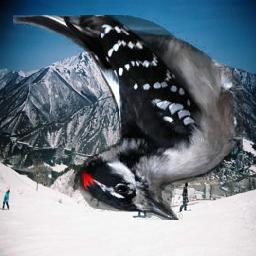Woodpecker: (13, 16, 243, 221)
